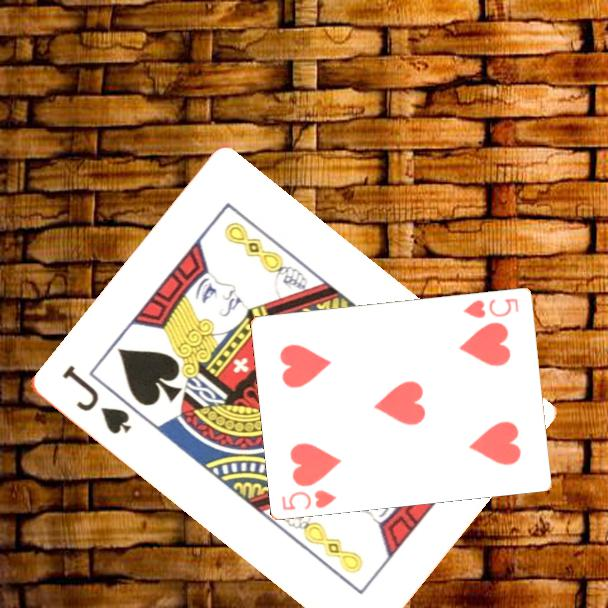h05: (460, 294, 522, 321), (278, 486, 340, 513)
s11: (57, 361, 134, 438)
